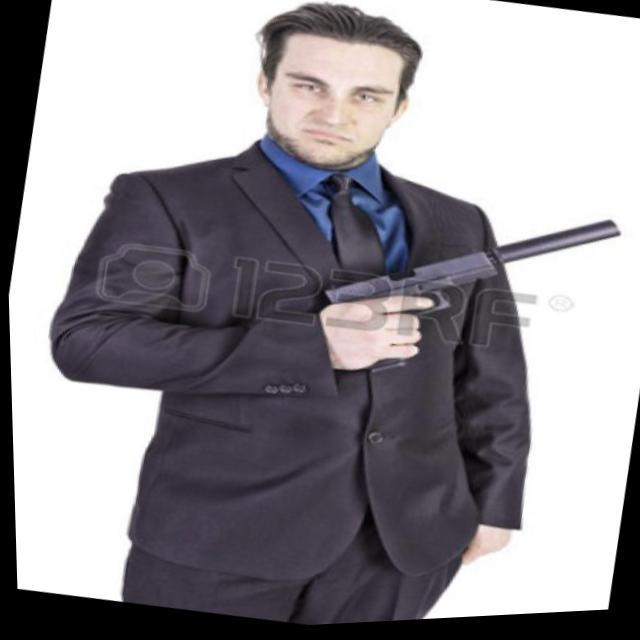weapon: (304, 175, 625, 418)
